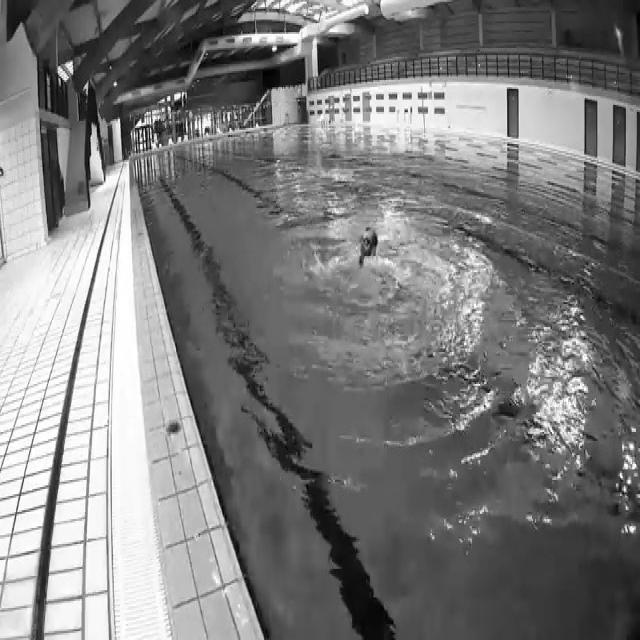Drowning: (348, 218, 385, 284)
